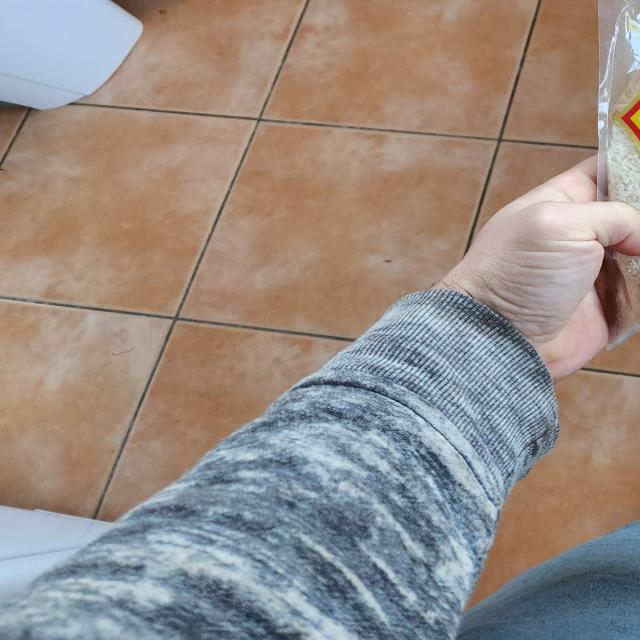rice: (597, 0, 640, 327)
